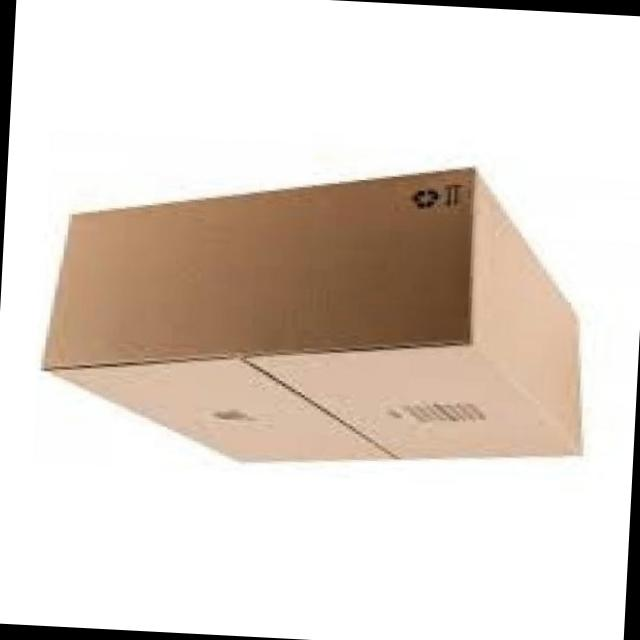cardboard paper: (44, 172, 579, 463)
